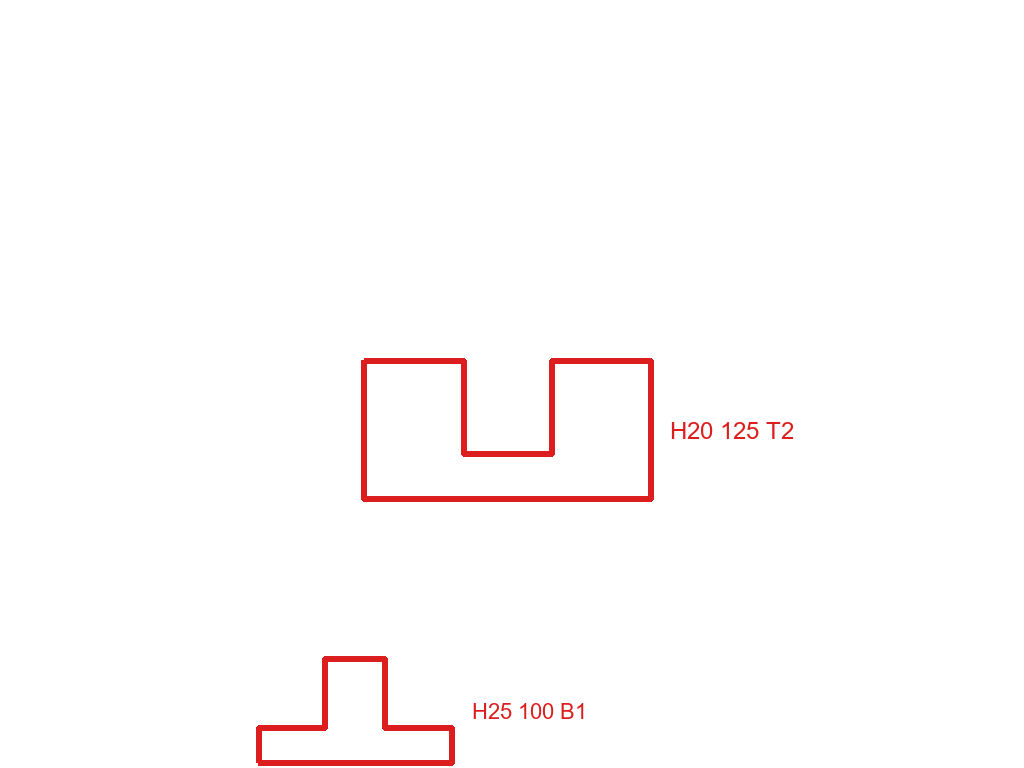shape: (360, 356, 655, 505), (253, 655, 457, 767)
text: (668, 420, 796, 441), (470, 701, 589, 721)
